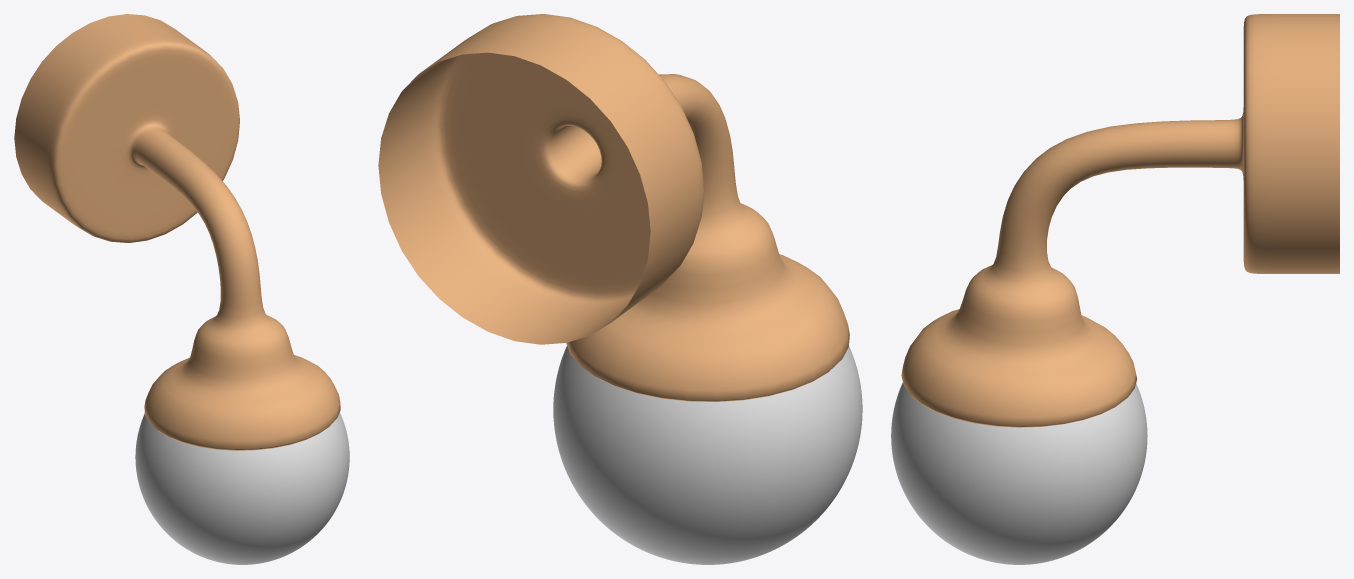
The model's file is lamp02.fbx.
The picture shows the model from 3 angles, left to right: view 1: azimuth 30°, elevation 25°; view 2: azimuth 150°, elevation 25°; view 3: azimuth 270°, elevation 25°; orthographic projection. The views are drawn at different scales.
Visible parts, largest first — view 1: lamp; view 2: lamp; view 3: lamp.
Boxes of the visible parts, x1=… form: lamp: x1=14, y1=14, x2=349, y2=564; lamp: x1=378, y1=14, x2=862, y2=564; lamp: x1=891, y1=14, x2=1339, y2=564.
Bounding box in the file's own units: 77.89 × 174 × 134.
